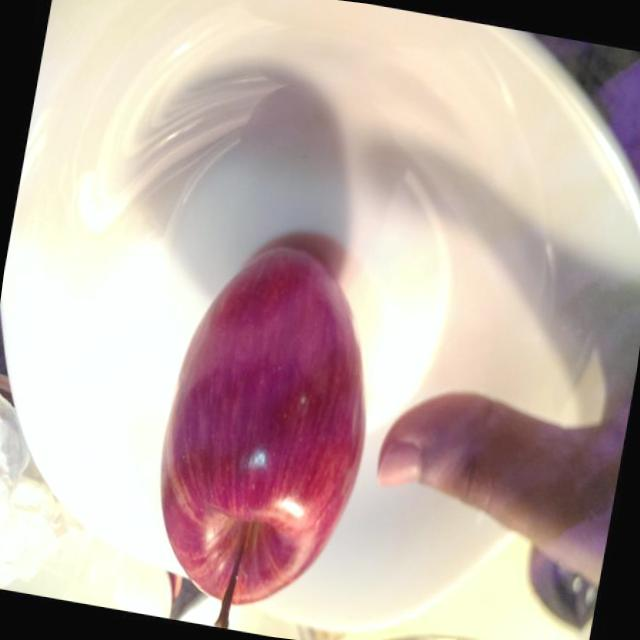Apple: (129, 220, 397, 640)
Finger: (364, 368, 518, 530)
